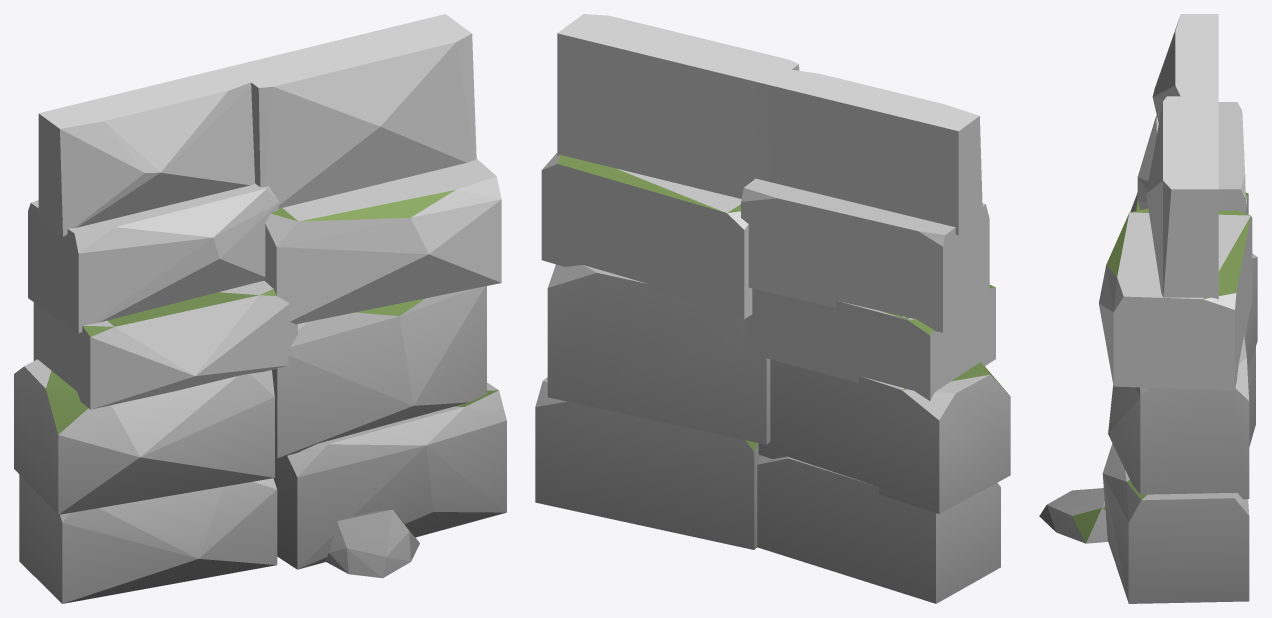
The picture shows the model from 3 angles, left to right: view 1: azimuth 30°, elevation 25°; view 2: azimuth 150°, elevation 25°; view 3: azimuth 270°, elevation 25°; orthographic projection. The views are drawn at different scales.
Visible parts, largest first — view 1: rk_cf4_3; view 2: rk_cf4_3; view 3: rk_cf4_3.
Boxes of the visible parts, x1=… form: rk_cf4_3: x1=14, y1=14, x2=506, y2=603; rk_cf4_3: x1=535, y1=14, x2=1010, y2=603; rk_cf4_3: x1=1039, y1=14, x2=1257, y2=603.
Bounding box in the file's own units: 36.71 × 37.5 × 18.11.
